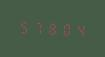eight: (44, 19, 56, 37)
five: (18, 18, 30, 35)
four: (70, 20, 82, 38)
seven: (31, 18, 43, 36)
zero: (57, 20, 69, 37)
